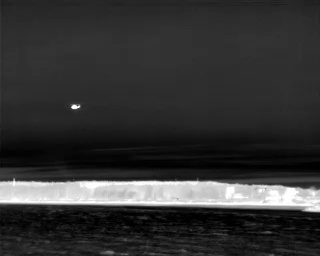HELICOPTER: (67, 100, 85, 116)
